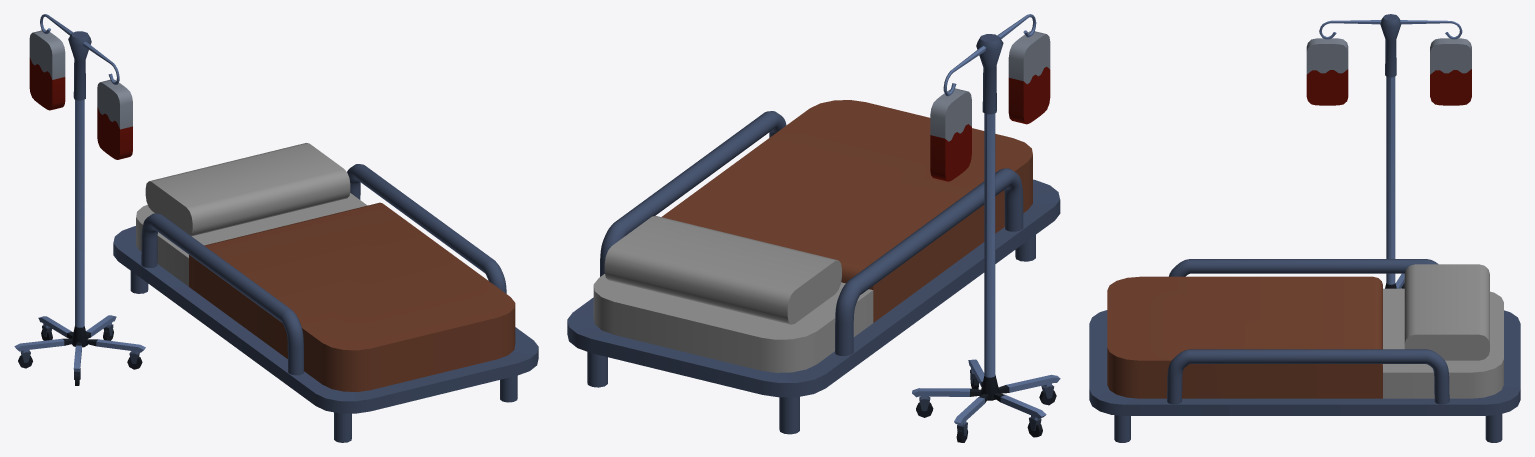
File: Bunk.fbx
3 views of the same model, side by side, from view 1: azimuth 30°, elevation 25°; view 2: azimuth 150°, elevation 25°; view 3: azimuth 270°, elevation 25° (orthographic). The views are drawn at different scales.
Visible parts, largest first — view 1: Bunk, Bunk.001; view 2: Bunk, Bunk.001; view 3: Bunk, Bunk.001.
Part boxes in pixels (bbox=[...]): Bunk: bbox=[113, 143, 538, 442]; Bunk.001: bbox=[14, 14, 145, 385]; Bunk: bbox=[567, 100, 1060, 434]; Bunk.001: bbox=[912, 14, 1060, 442]; Bunk: bbox=[1089, 259, 1520, 442]; Bunk.001: bbox=[1306, 14, 1471, 288].
Size of the model in its own units: 3.01 by 2.58 by 3.37.
